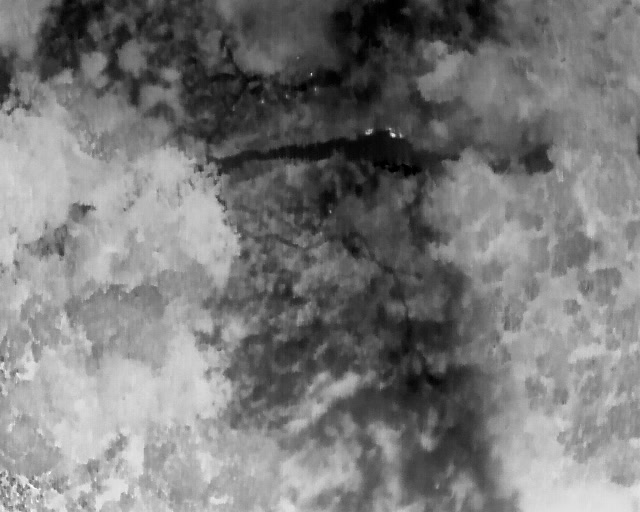car: (319, 124, 339, 153)
person: (352, 176, 359, 189), (349, 173, 356, 184)
